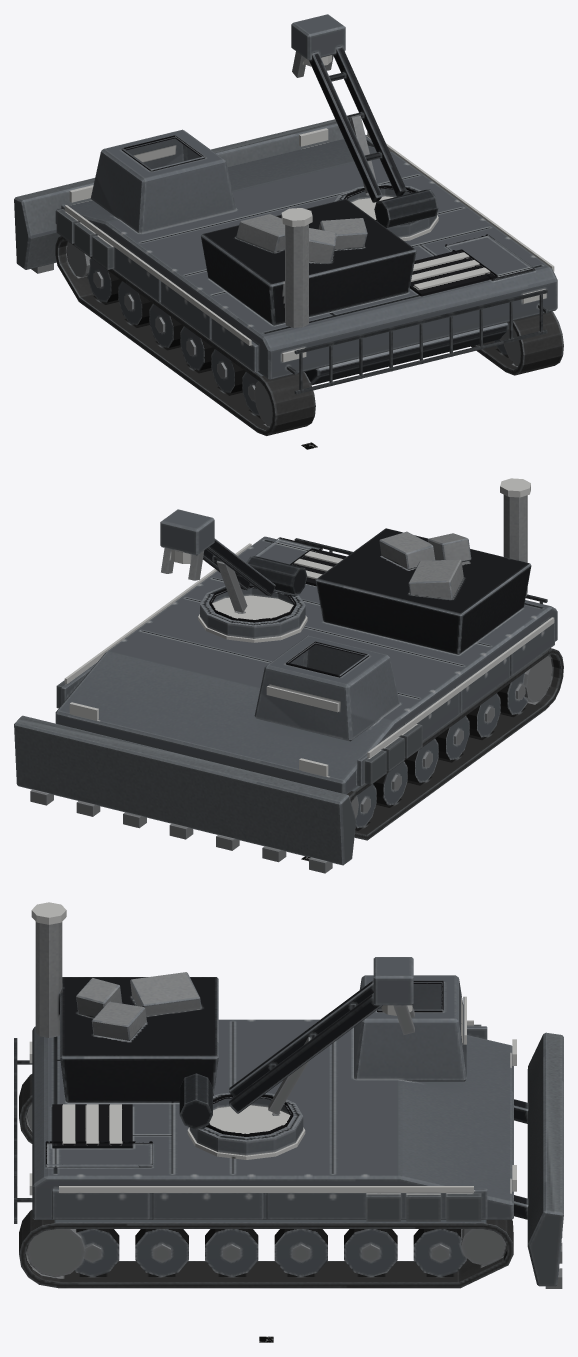
File: chs_scrapper.fbx
3 views of the same model, one above another, from view 1: azimuth 30°, elevation 25°; view 2: azimuth 150°, elevation 25°; view 3: azimuth 270°, elevation 25° (orthographic). The views are drawn at different scales.
Visible parts, largest first — view 1: base_bar, trackL_bar, nano_bar, base_glow_running_bar, trackR_bar, base_glow_head_bar, nano_glow_power_bar; view 2: base_bar, trackL_bar, nano_bar, base_glow_running_bar, nano_glow_power_bar, base_glow_head_bar; view 3: base_bar, trackR_bar, nano_bar, base_glow_running_bar, nano_glow_power_bar, trackL_bar.
Part boxes in pixels (box(x1,y1,x2,y2)): base_bar: box(14, 119, 557, 394); trackL_bar: box(55, 236, 315, 435); nano_bar: box(291, 14, 438, 237); base_glow_running_bar: box(64, 132, 554, 362); trackR_bar: box(471, 311, 563, 375); base_glow_head_bar: box(69, 128, 328, 202); nano_glow_power_bar: box(303, 55, 438, 240); base_bar: box(14, 495, 557, 873); trackL_bar: box(347, 648, 563, 840); nano_bar: box(160, 509, 307, 638); base_glow_running_bar: box(64, 478, 554, 757); nano_glow_power_bar: box(171, 549, 307, 642); base_glow_head_bar: box(69, 702, 328, 776); base_bar: box(14, 922, 563, 1288); trackR_bar: box(19, 1210, 513, 1288); nano_bar: box(179, 957, 414, 1155); base_glow_running_bar: box(29, 902, 473, 1195); nano_glow_power_bar: box(187, 1005, 412, 1159); trackL_bar: box(19, 1074, 32, 1143).
Size of the model in its own units: 591 by 628 by 765.
2 materials, 2 textured.
